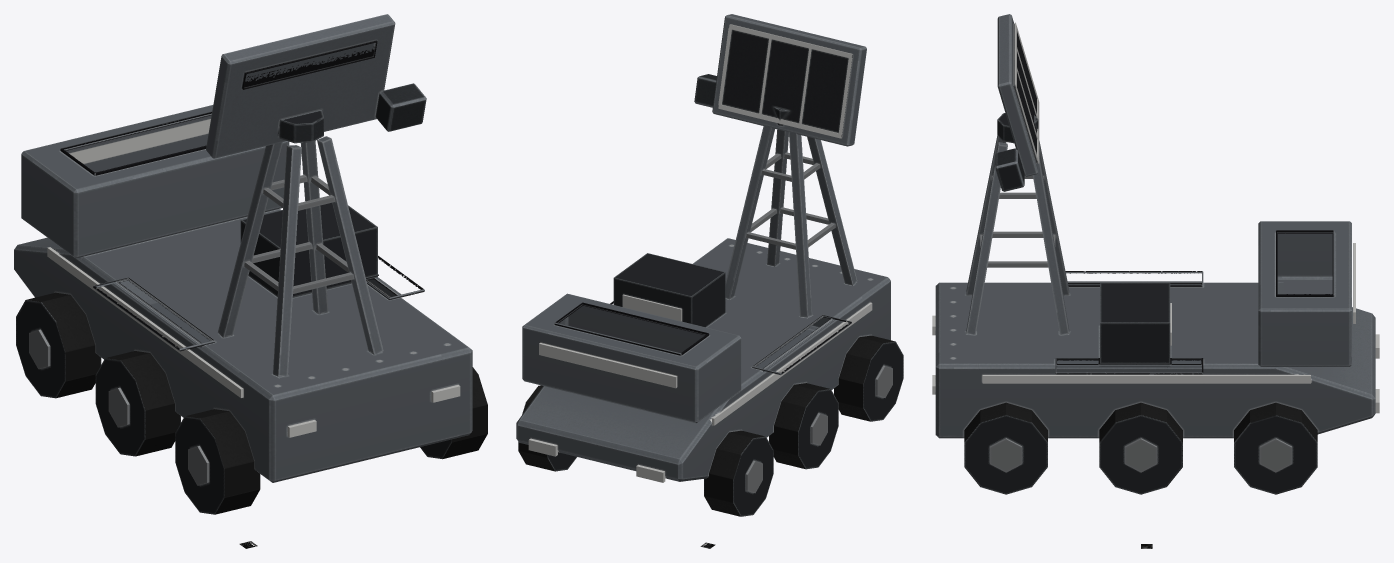
File: chs_stalker.fbx
3 renders of one model, left to right at view 1: azimuth 30°, elevation 25°; view 2: azimuth 150°, elevation 25°; view 3: azimuth 270°, elevation 25°, orthographic. The views are drawn at different scales.
Visible parts, largest first — view 1: base_bar, dish_bar, base_glow_running_bar; view 2: base_bar, dish_bar, base_glow_running_bar, dish_glow_running_bar, base_glow_head_bar; view 3: base_bar, dish_bar, base_glow_running_bar, dish_glow_running_bar.
Part boxes in pixels (box(x1,y1,x2,y2)): base_bar: box(14, 105, 487, 514); dish_bar: box(206, 14, 426, 158); base_glow_running_bar: box(47, 247, 460, 437); base_bar: box(516, 125, 903, 516); dish_bar: box(694, 14, 866, 146); base_glow_running_bar: box(539, 294, 872, 425); dish_glow_running_bar: box(718, 24, 852, 138); base_glow_head_bar: box(528, 438, 665, 482); base_bar: box(935, 135, 1375, 494); dish_bar: box(995, 14, 1038, 191); base_glow_running_bar: box(932, 243, 1355, 394); dish_glow_running_bar: box(1014, 22, 1039, 163).
Bounding box in the file's own units: 448 × 919 × 763.
2 materials, 2 textured.
